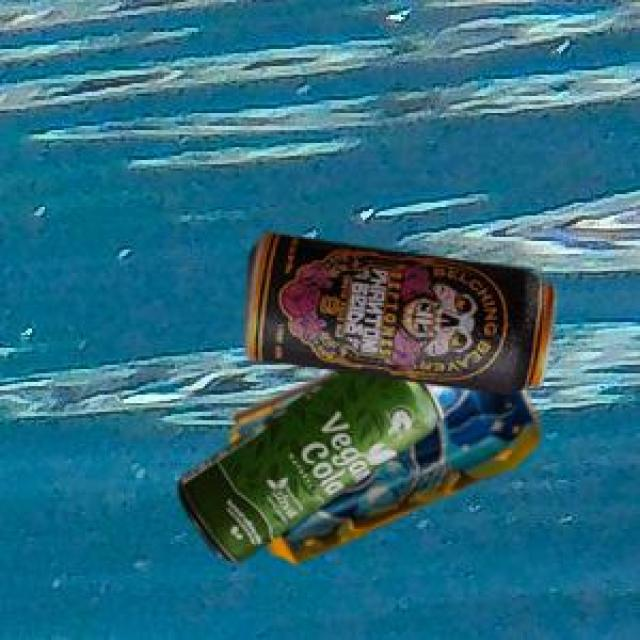logam: (229, 373, 537, 560), (174, 368, 441, 558), (242, 229, 554, 391)
